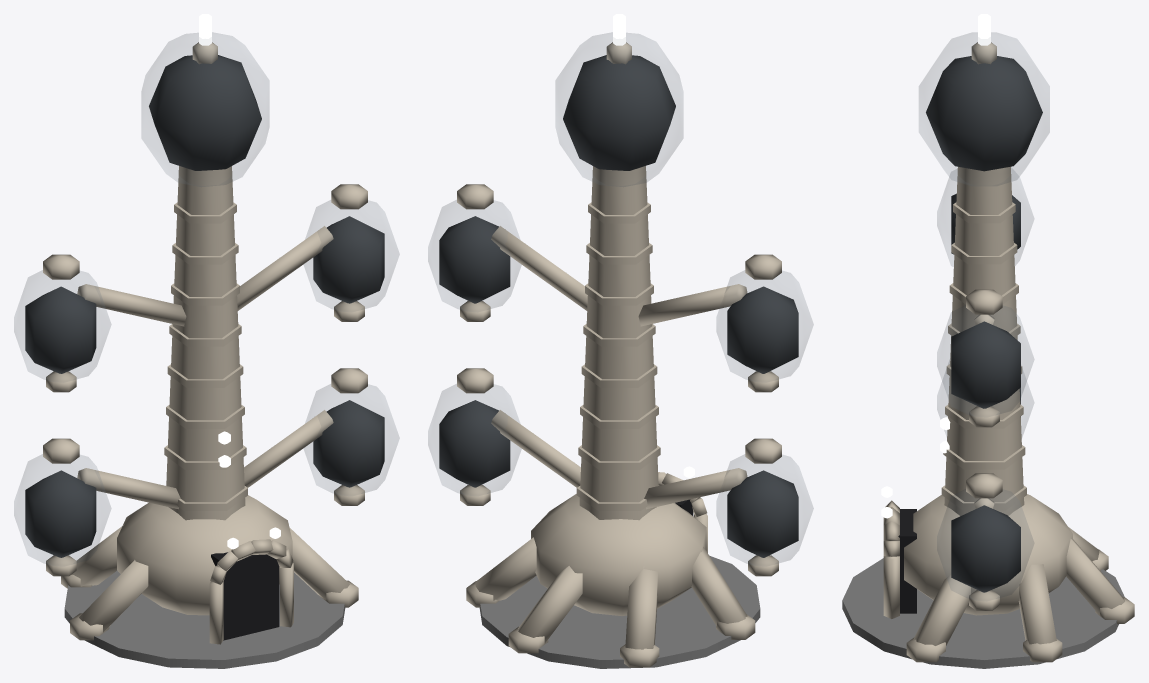
The model's file is Skin_BioPod_T3.glb.
3 views of the same model, side by side, from view 1: azimuth 30°, elevation 25°; view 2: azimuth 150°, elevation 25°; view 3: azimuth 270°, elevation 25° (orthographic).
Parts seen in each view (by area): view 1: Skin_BioPod_T3; view 2: Skin_BioPod_T3; view 3: Skin_BioPod_T3.
Boxes of the visible parts, x1,y1,x2,y2 form: Skin_BioPod_T3: (14, 14, 399, 668); Skin_BioPod_T3: (428, 14, 813, 668); Skin_BioPod_T3: (842, 14, 1134, 668).
Size of the model in its own units: 5.32 by 8.08 by 3.6.
